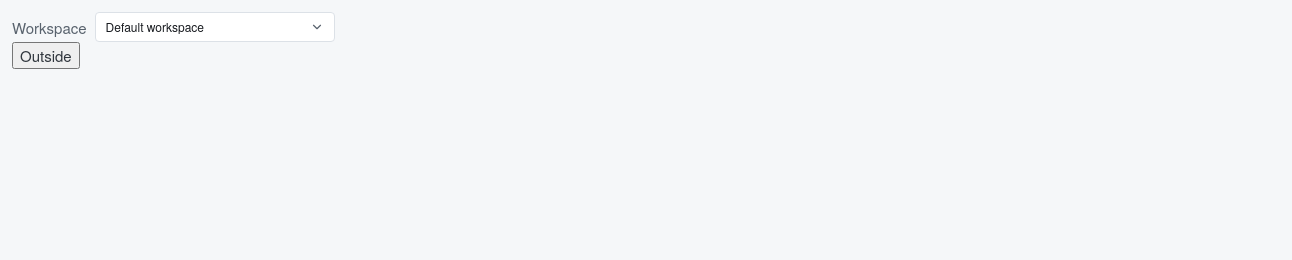
supports arrow navigation without changing Workspace and Escape restores focus
The image size is (1292, 260).
Press ArrowDown in the button with aria-label "Workspace: Default workspace", box [95,12,335,42]
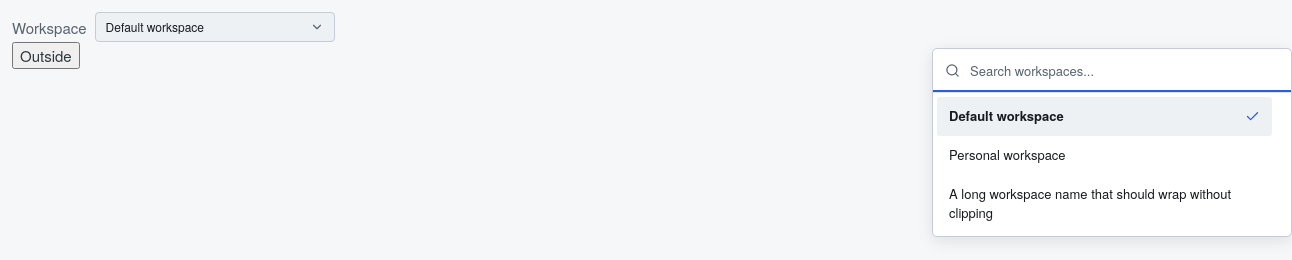
Press ArrowDown in the dropdown labelled "Search workspaces", box [968,59,1279,82]
Type "long workspace" into the dropdown labelled "Search workspaces" at (1124, 70), box [968,59,1279,82]
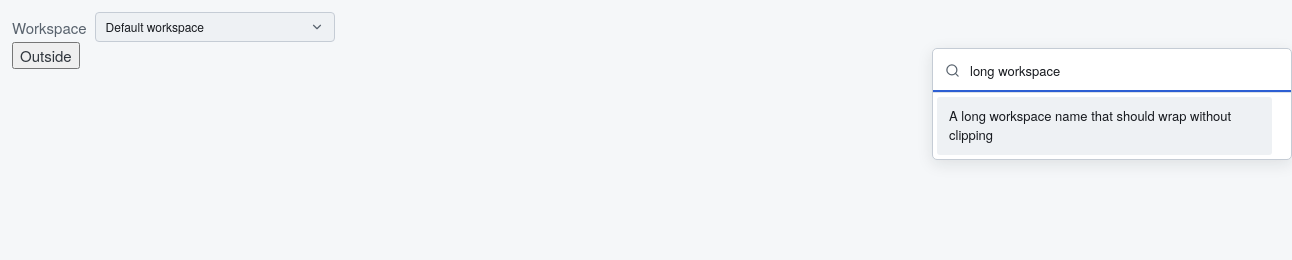
Expected: the number of options is 1, [937,97,1272,155]
Press Escape in the dropdown named "Search workspaces", box [968,59,1279,82]
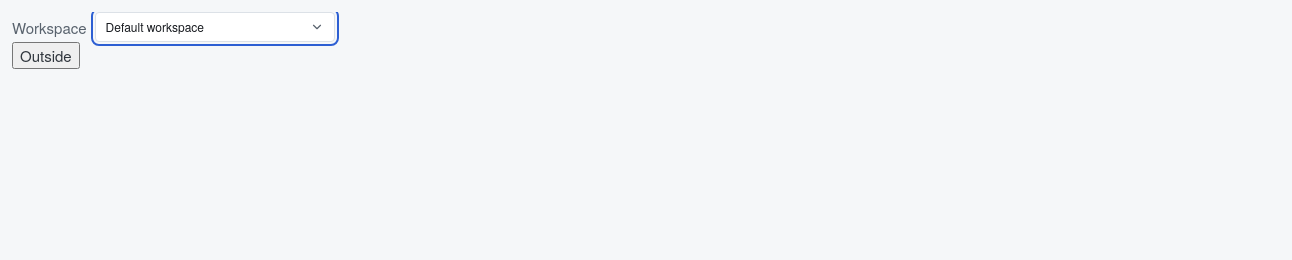
Expected: the list is gone
